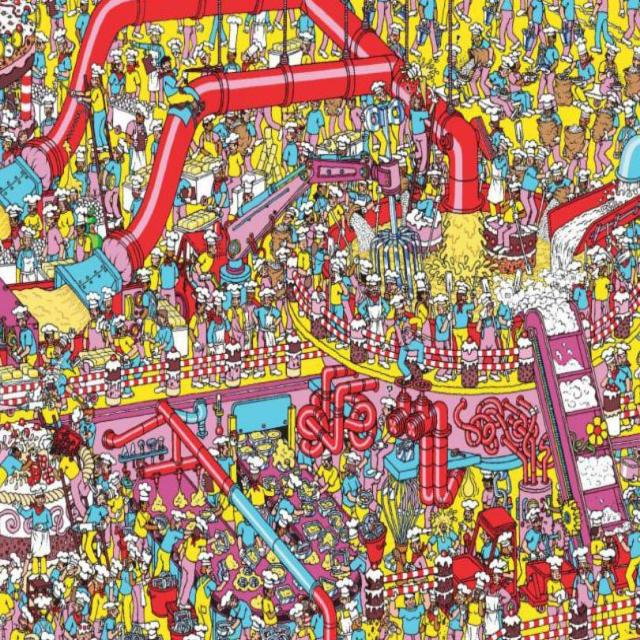waldo: (294, 124, 305, 140)
